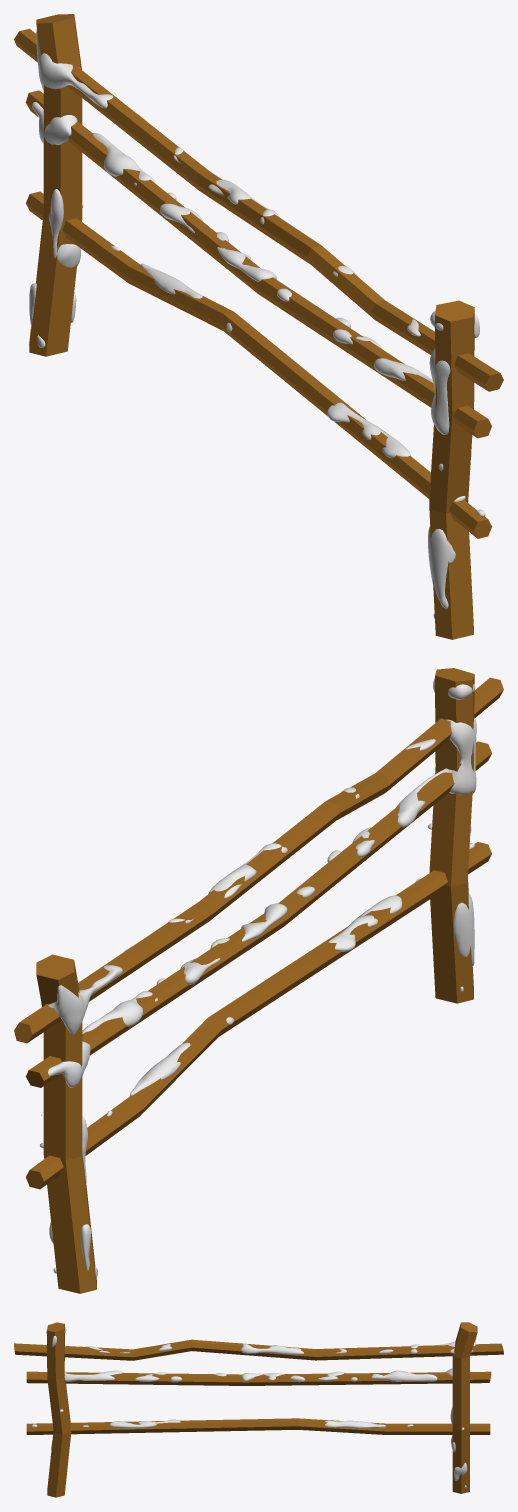
Rendered from Fence 2.fbx.
3 renders of one model, top to bottom at view 1: azimuth 30°, elevation 25°; view 2: azimuth 150°, elevation 25°; view 3: azimuth 270°, elevation 25°, orthographic. The views are drawn at different scales.
Parts seen in each view (by area): view 1: SM_Prop_Fence_04, 3dmSnow.002; view 2: SM_Prop_Fence_04, 3dmSnow.002; view 3: SM_Prop_Fence_04, 3dmSnow.002.
Part boxes in pixels (box(x1,y1,x2,y2)): SM_Prop_Fence_04: box(14, 14, 503, 639); 3dmSnow.002: box(29, 29, 485, 618); SM_Prop_Fence_04: box(14, 668, 503, 1293); 3dmSnow.002: box(39, 678, 476, 1277); SM_Prop_Fence_04: box(14, 1322, 503, 1497); 3dmSnow.002: box(31, 1326, 476, 1487).
Bounding box in the file's own units: 10.31 × 57.08 × 151.
